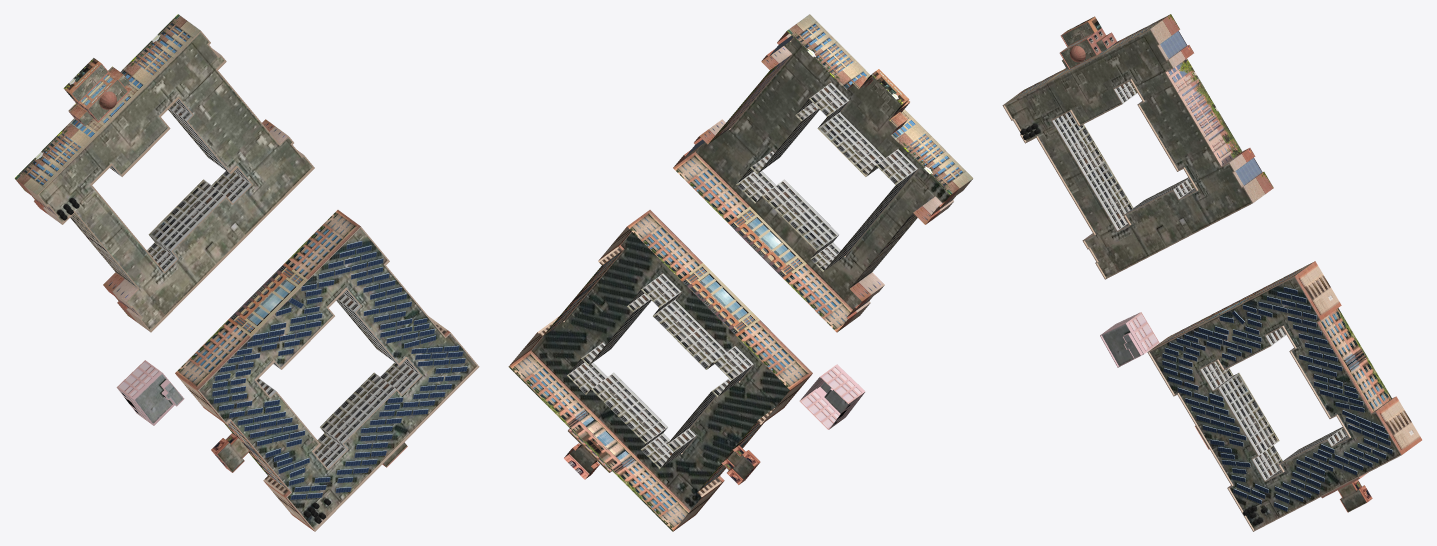
Rendered from Judicial_Courts_Complex.glb.
The picture shows the model from 3 angles, left to right: view 1: azimuth 30°, elevation 25°; view 2: azimuth 150°, elevation 25°; view 3: azimuth 330°, elevation 25°; orthographic projection. The views are drawn at different scales.
Parts seen in each view (by area): view 1: Terrain.003; view 2: Terrain.003; view 3: Terrain.003.
Boxes of the visible parts, x1,y1,x2,y2 form: Terrain.003: (14,14,479,531); Terrain.003: (508,14,973,531); Terrain.003: (1002,14,1421,531).
Bounding box in the file's own units: 205 × 235 × 19.89.
Materials: 3 (3 with a texture image).
